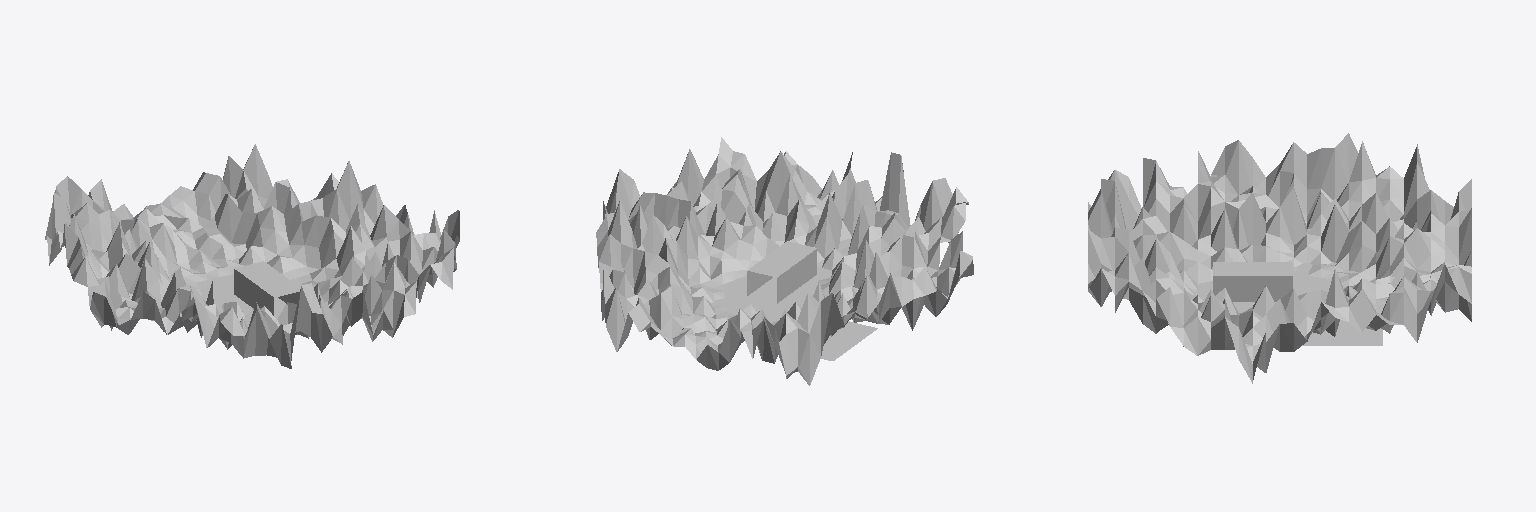
The model's file is playarea.obj.
The picture shows the model from 3 angles: view 1: azimuth 30°, elevation 25°; view 2: azimuth 150°, elevation 25°; view 3: azimuth 270°, elevation 25°; orthographic projection.
Parts seen in each view (by area): view 1: Grid_Grid.001, Cube.001_Cube.000, Cube_Cube.001; view 2: Grid_Grid.001, Cube.001_Cube.000, Cube_Cube.001; view 3: Grid_Grid.001, Cube.001_Cube.000.
Boxes of the visible parts, box(x1,y1,x2,y2) form: Grid_Grid.001: box(45, 144, 459, 368); Cube.001_Cube.000: box(168, 258, 300, 318); Cube_Cube.001: box(234, 269, 299, 315); Grid_Grid.001: box(596, 137, 973, 385); Cube.001_Cube.000: box(711, 241, 877, 360); Cube_Cube.001: box(747, 249, 816, 303); Grid_Grid.001: box(1088, 133, 1471, 383); Cube.001_Cube.000: box(1197, 262, 1382, 345).
Size of the model in its own units: 148 by 35.89 by 134.